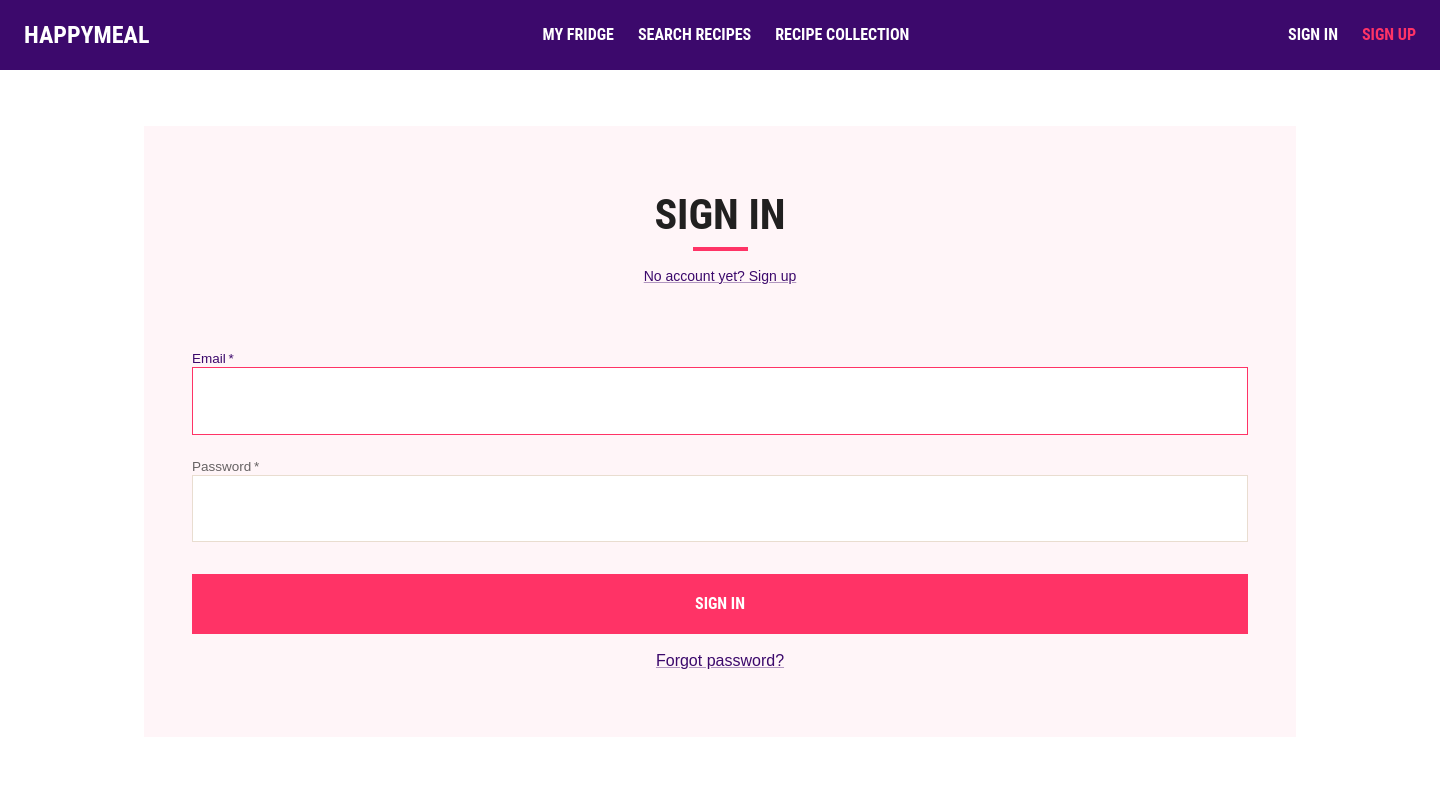
it: Unfilled input prevents the user from proceeding
Type "nonuser@test.com" into the field labelled "Email *".
click(720, 401); type("nonuser@test.com")  # box top-left (192, 367), bottom-right (1248, 435)
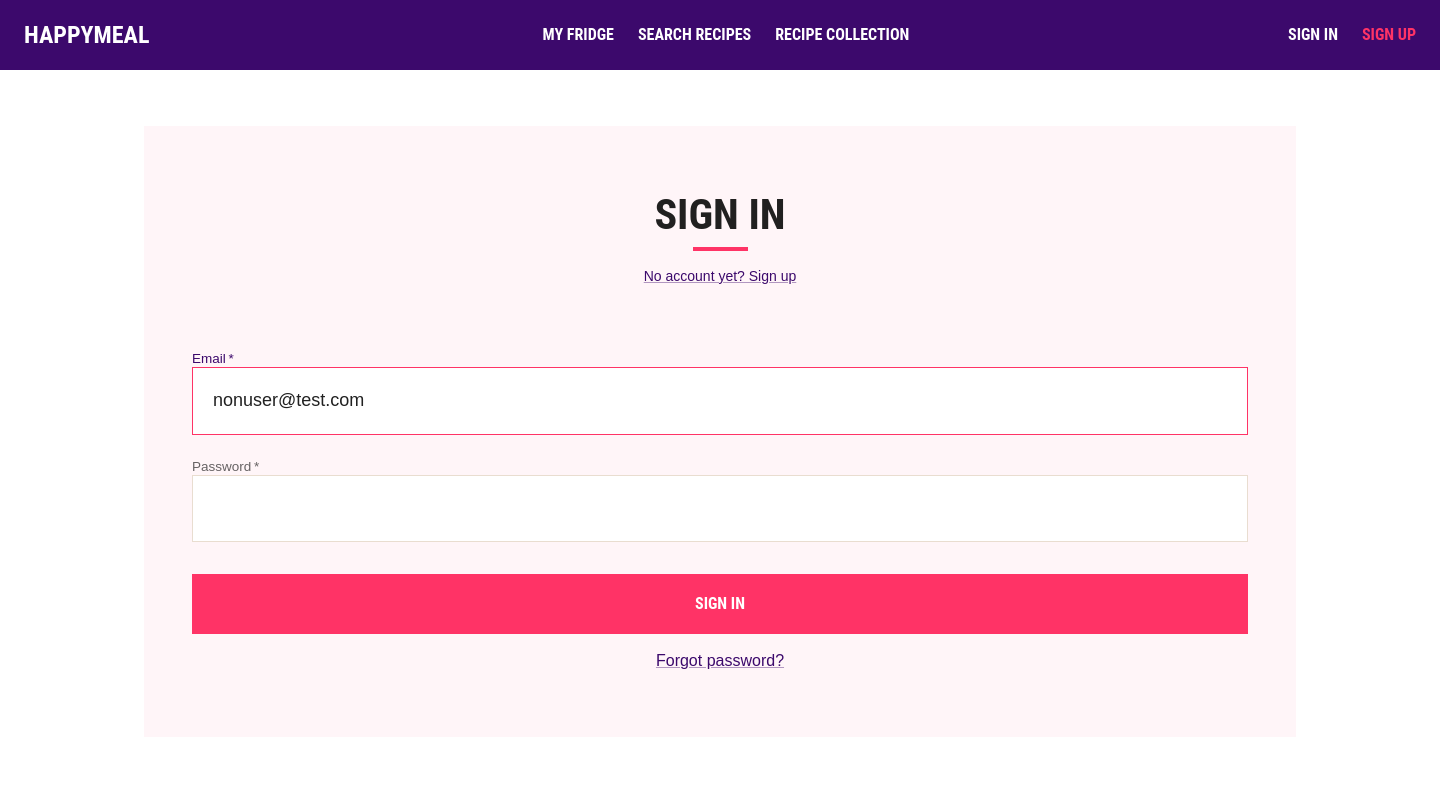
Click the button "Sign in".
click(720, 604)  # box top-left (192, 574), bottom-right (1248, 634)
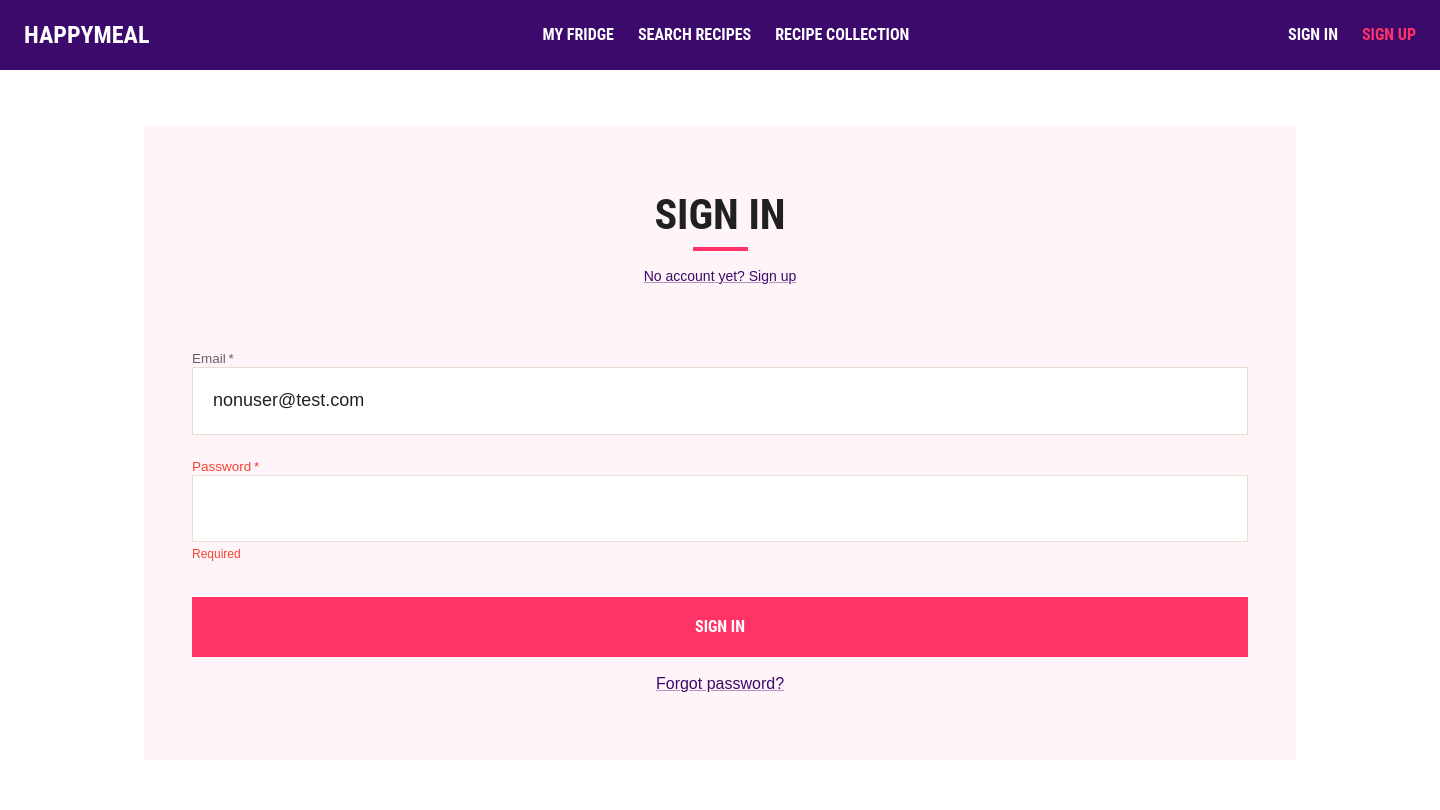
Check: the text "Required" is shown once, box top-left (192, 547), bottom-right (241, 561)
